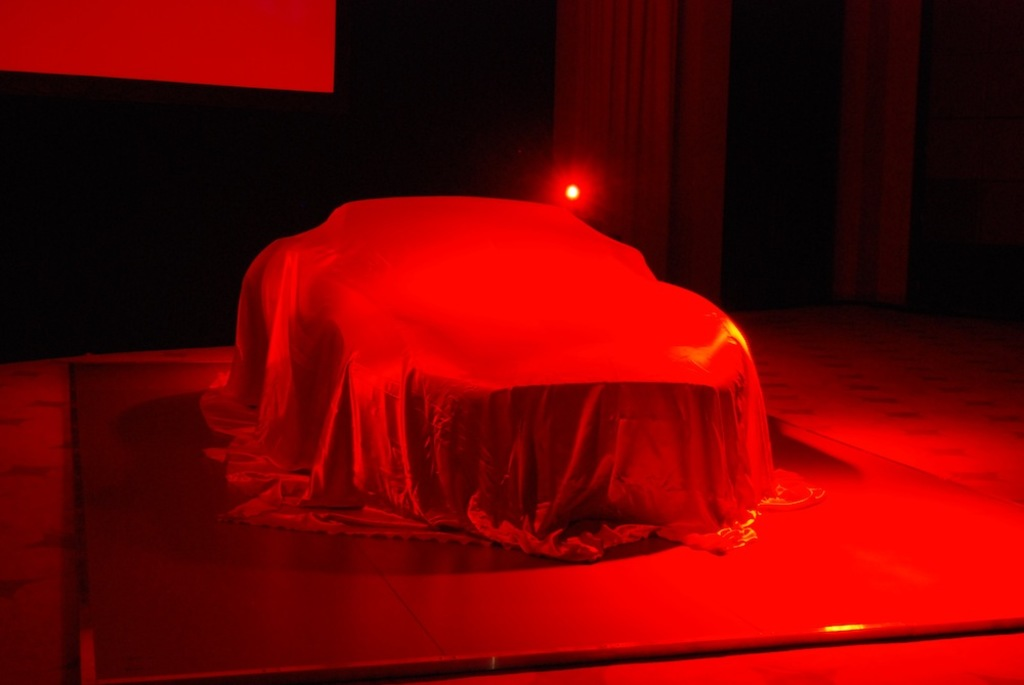Car: (242, 192, 743, 509)
